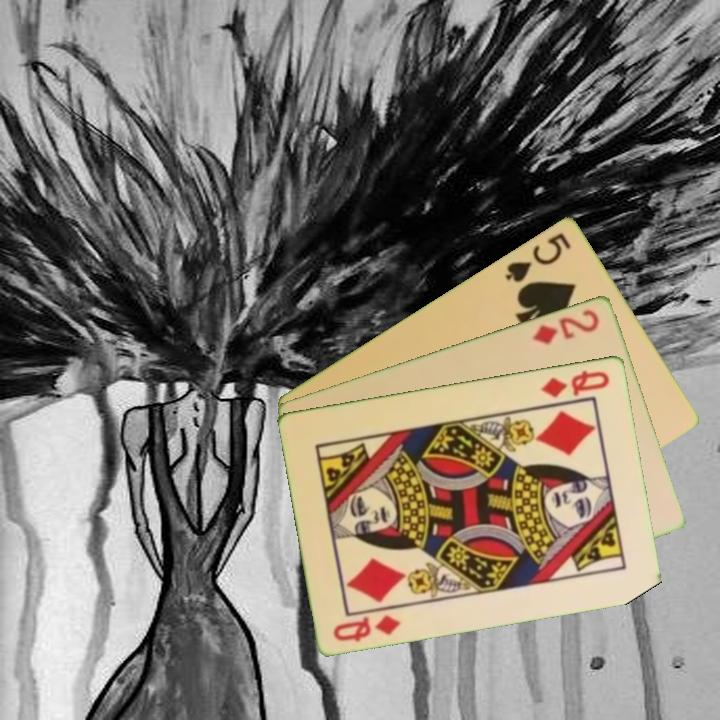2d: (529, 305, 603, 347)
5s: (501, 228, 574, 285)
Qd: (538, 366, 613, 400), (330, 610, 404, 644)
